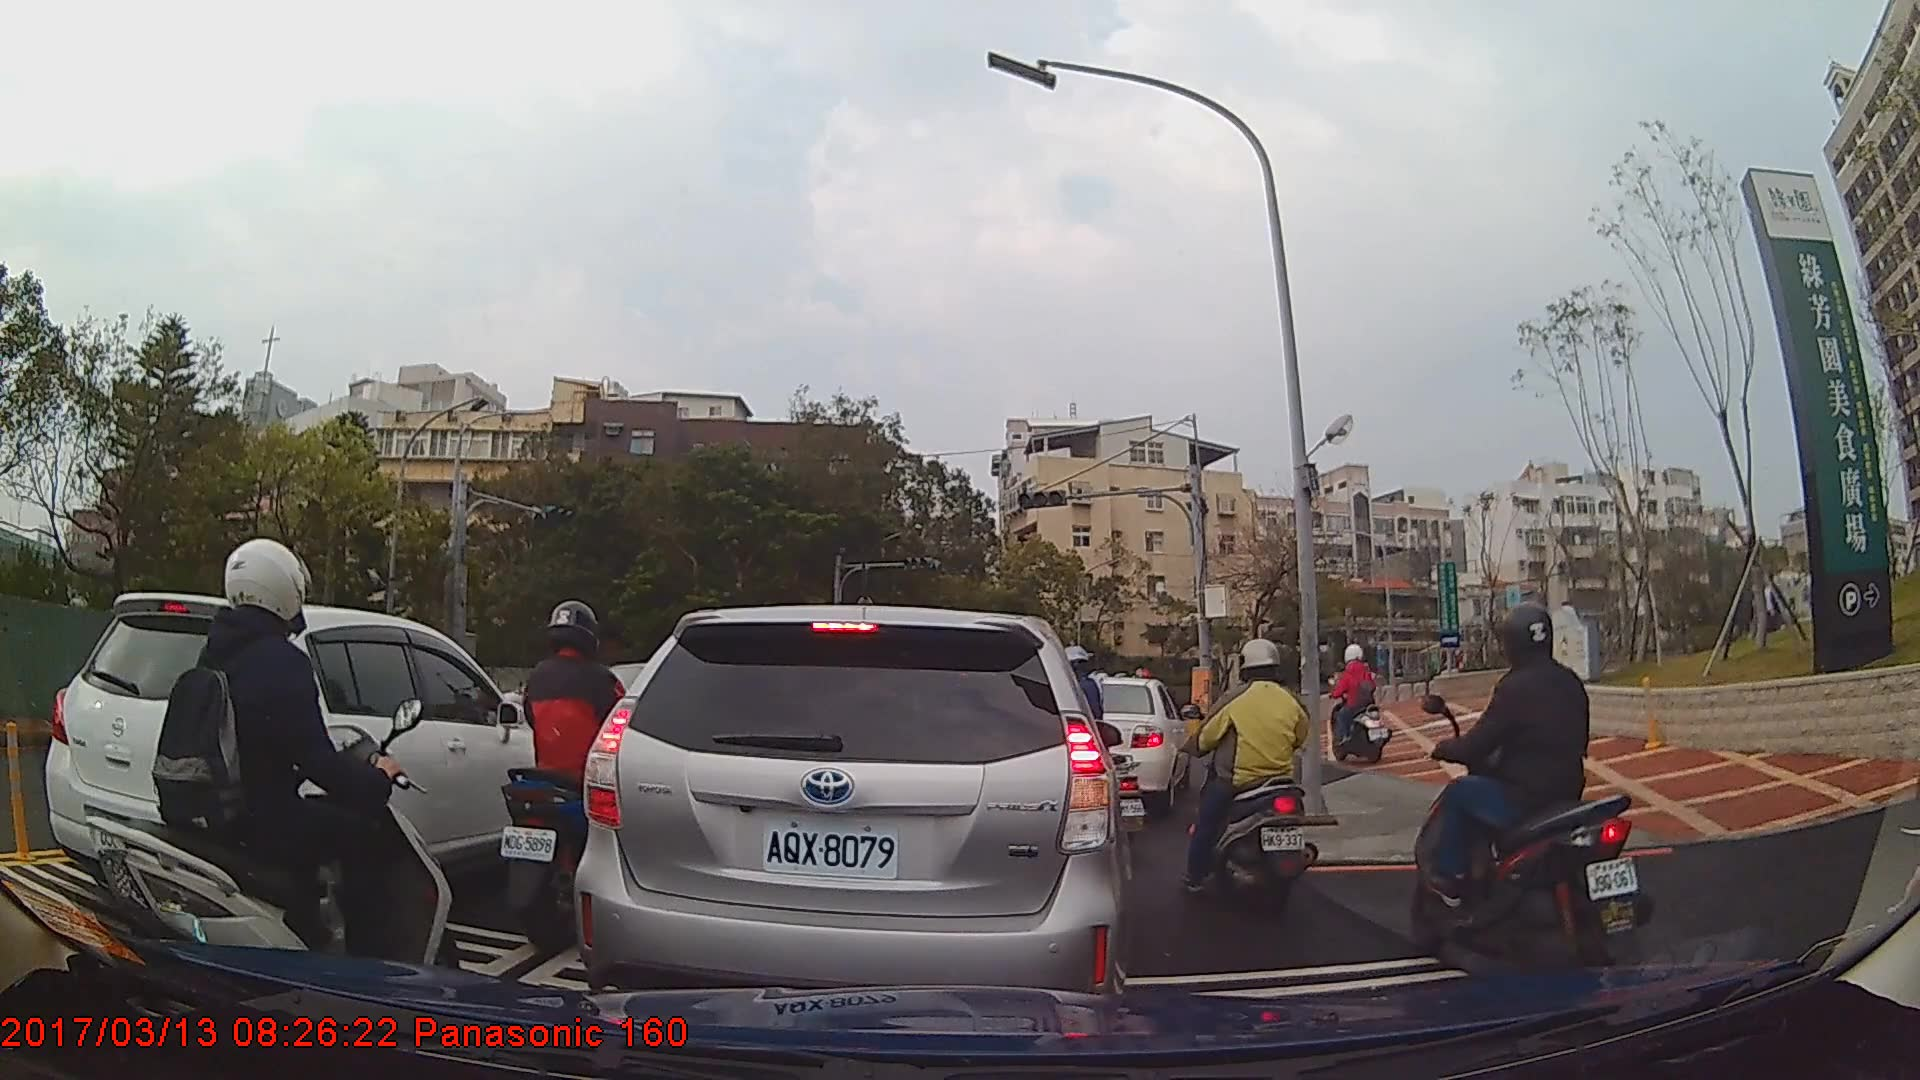pedestrian: (1749, 562, 1791, 638), (1743, 576, 1778, 640)
rider: (87, 538, 459, 1026), (1402, 601, 1646, 987), (493, 598, 650, 956), (1181, 636, 1318, 905), (1318, 640, 1390, 762)
vehicle: (571, 603, 1132, 1024), (42, 591, 576, 924), (1065, 674, 1193, 814)
